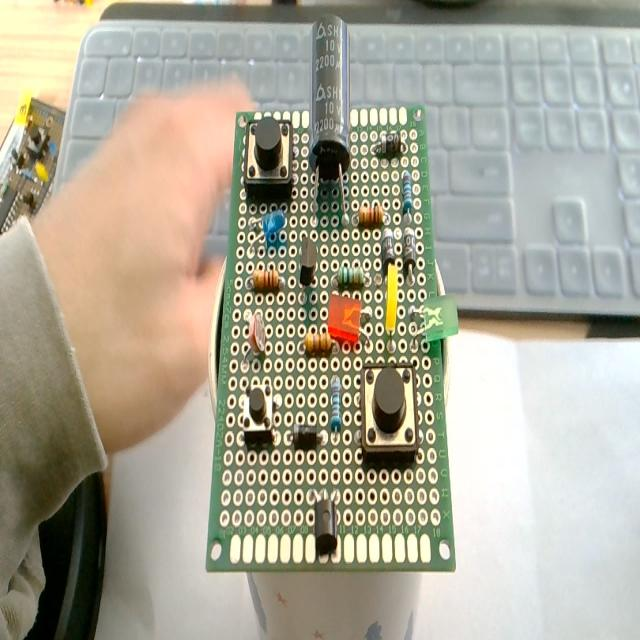Electrolytic capacitor: (307, 20, 351, 221)
cds: (244, 308, 268, 366)
diode: (286, 414, 324, 452), (374, 132, 402, 158), (402, 227, 416, 276), (381, 228, 395, 273)
led: (409, 295, 461, 354), (327, 292, 361, 347), (246, 209, 286, 247), (385, 265, 397, 332)
resistor: (305, 329, 331, 354), (253, 268, 280, 292), (331, 375, 342, 430), (358, 203, 384, 226), (337, 265, 364, 287), (402, 171, 412, 213)
switch: (359, 362, 418, 458), (244, 117, 293, 194), (242, 381, 275, 444)
transistor: (306, 480, 350, 554), (296, 234, 320, 294)
